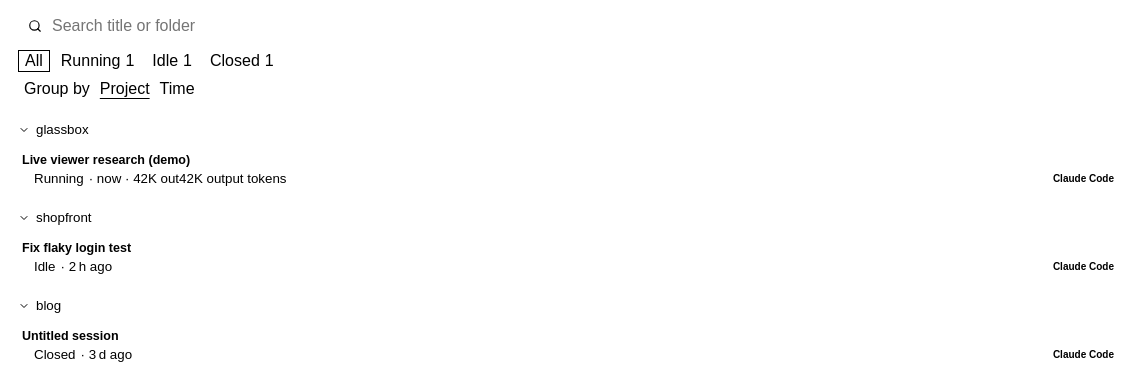
it: SessionSidebar › filters by the search box and says when nothing matches
The image size is (1146, 379).
Type "shopfront" into the search field at (587, 26), box [50,16,1124,36]
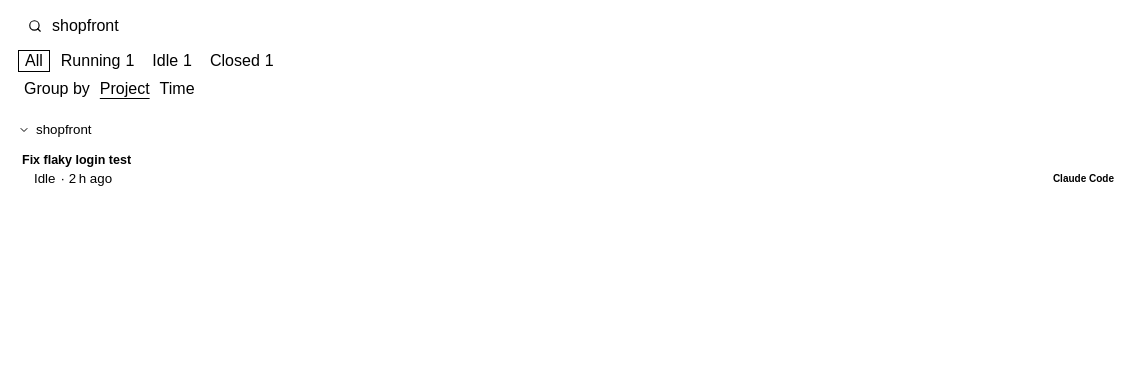
Check: the number of lists is 1, box [8,143,1129,196]
Replace the text in the search field with "zzz" at (587, 26), box [50,16,1124,36]
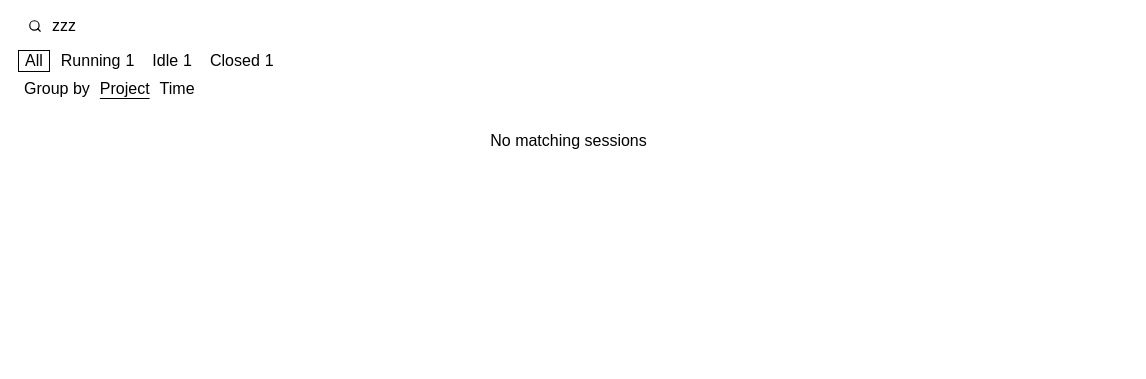
Check: the text "No matching sessions" is shown, box [490,132,647,149]
